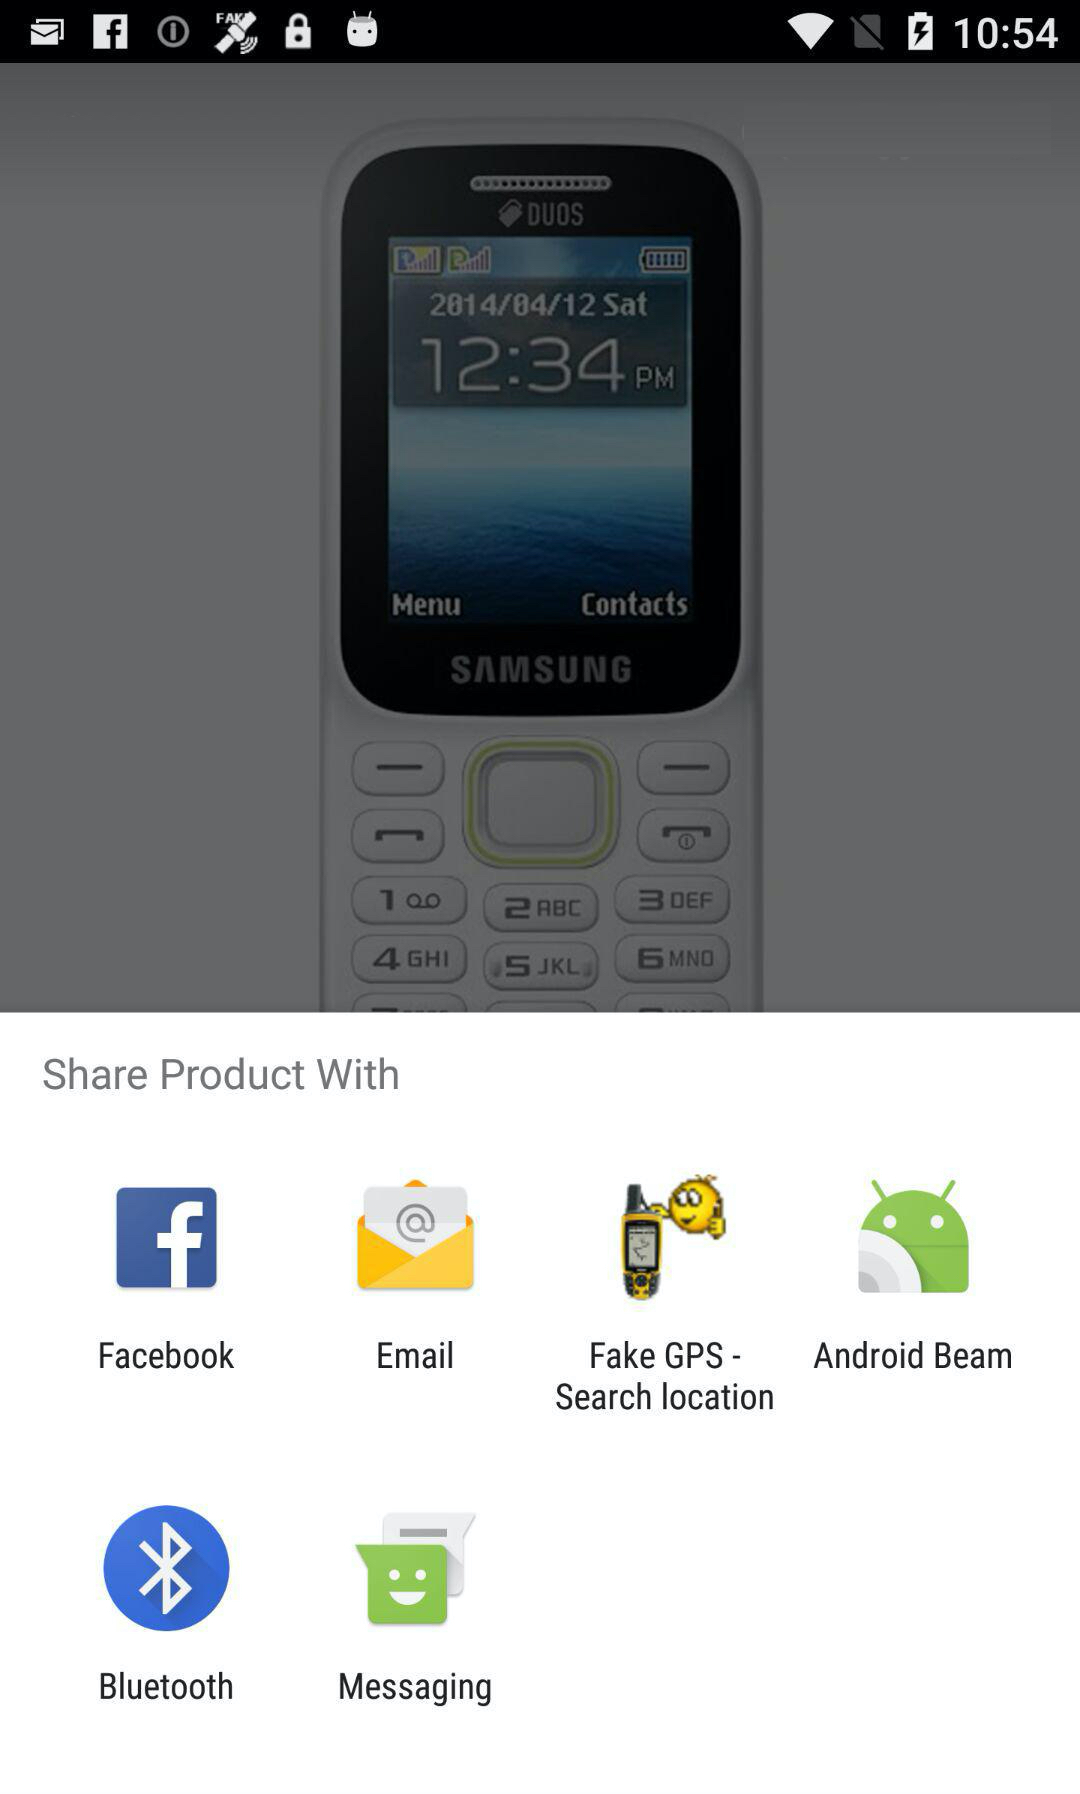Icon: (104, 1504, 231, 1633), (117, 1187, 218, 1289)
Image: (318, 117, 766, 1012), (355, 1511, 478, 1626), (620, 1173, 728, 1302), (357, 1178, 475, 1290), (857, 1179, 970, 1294)
Modal: (1, 1012, 1080, 1794)
Text: (556, 1340, 775, 1411), (44, 1056, 398, 1090), (814, 1339, 1012, 1370), (340, 1671, 492, 1707), (100, 1340, 236, 1370), (101, 1671, 234, 1700), (377, 1340, 454, 1370)
UpperTaskBar: (1, 1, 1080, 64)
